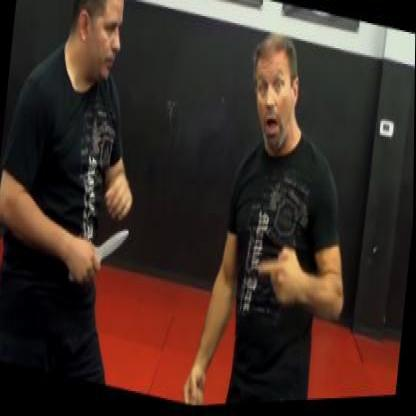knife: (66, 209, 132, 299)
